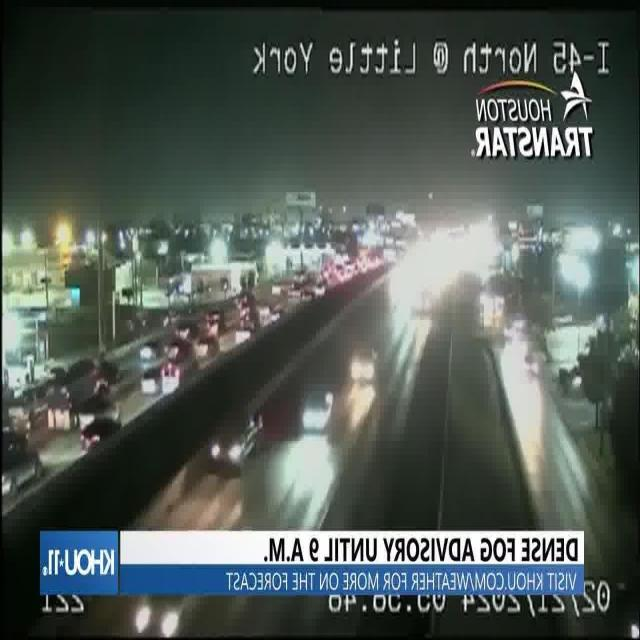Car: (208, 407, 264, 476), (298, 382, 336, 441), (349, 341, 379, 386)
